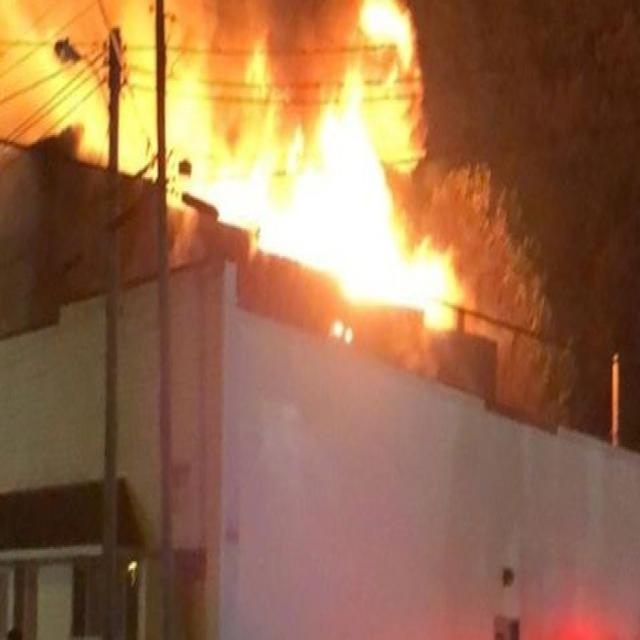Fire: (192, 72, 464, 326)
